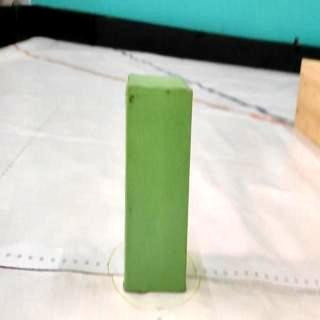greenbox: (122, 72, 194, 296)
